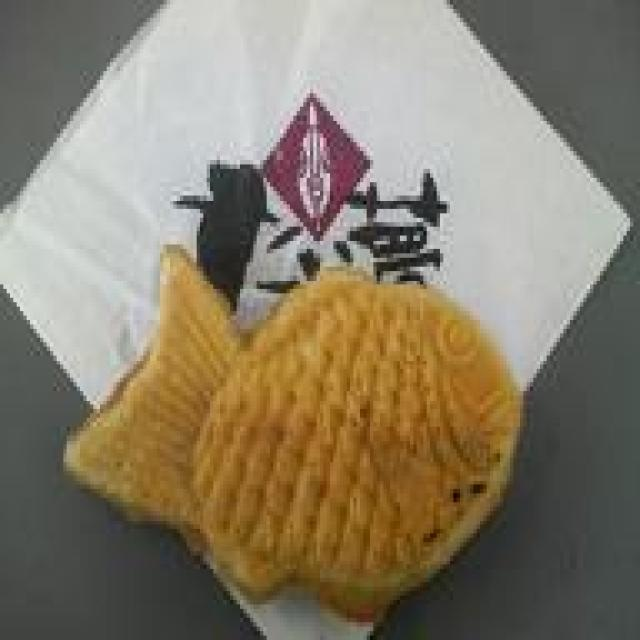熟制海鲜: (60, 227, 540, 618)
